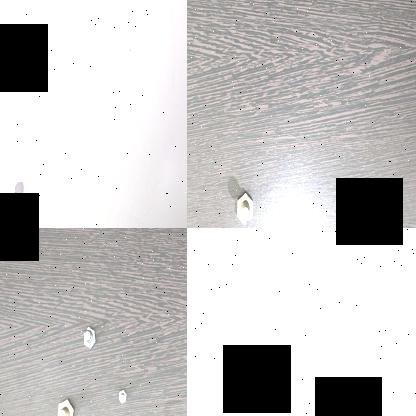Bolts: (229, 184, 257, 228), (9, 188, 27, 228), (50, 395, 77, 416), (82, 324, 98, 354)
